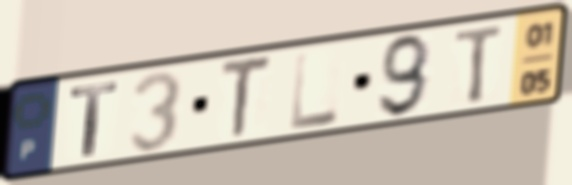3: (126, 64, 188, 158)
9: (377, 31, 437, 120)
L: (288, 47, 343, 134)
T: (217, 51, 275, 143), (451, 21, 507, 108), (67, 78, 120, 160)
